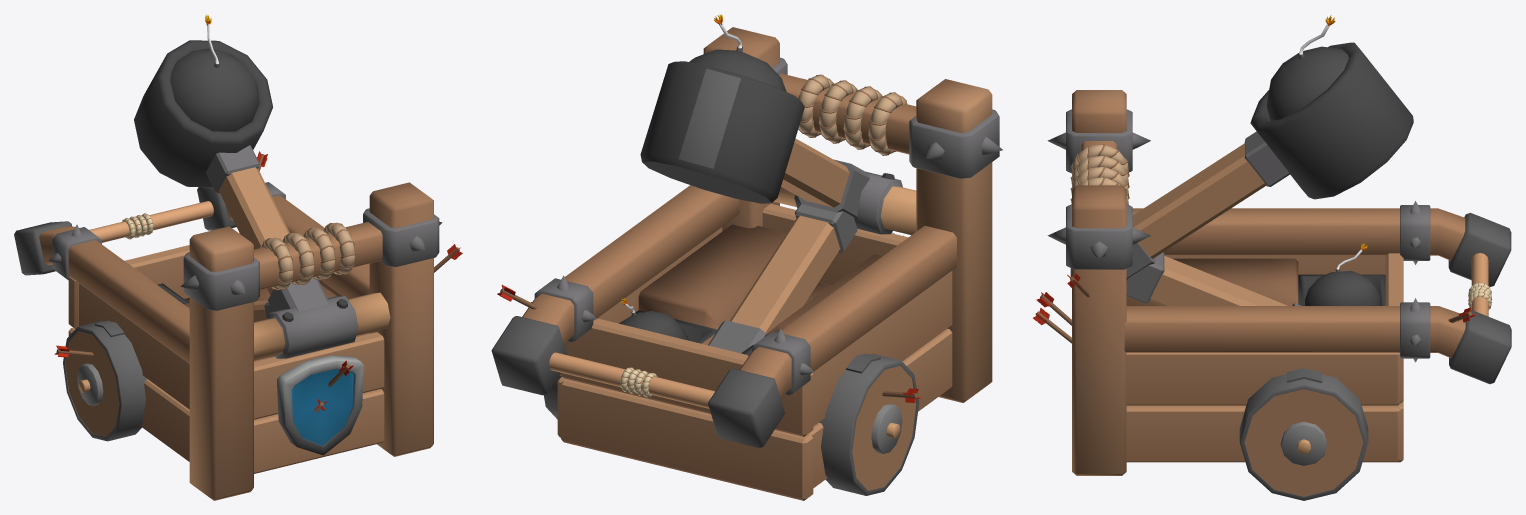
The model's file is Catapult_5.fbx.
3 renders of one model, left to right at view 1: azimuth 30°, elevation 25°; view 2: azimuth 150°, elevation 25°; view 3: azimuth 270°, elevation 25°, orthographic. The views are drawn at different scales.
Parts seen in each view (by area): view 1: Catapult_5, CatapultThrougher_2, CatapultWheel_3, Bomb.003; view 2: Catapult_5, CatapultThrougher_2, CatapultWheel_3, Bomb.003, Bomb.005; view 3: Catapult_5, CatapultThrougher_2, CatapultWheel_2, Bomb.003, Bomb.004.
Boxes of the visible parts, bbox=[...] form: Catapult_5: bbox=[14, 151, 462, 500]; CatapultThrougher_2: bbox=[134, 40, 328, 311]; CatapultWheel_3: bbox=[63, 320, 147, 441]; Bomb.003: bbox=[170, 14, 259, 131]; Catapult_5: bbox=[491, 27, 1002, 500]; CatapultThrougher_2: bbox=[640, 61, 869, 222]; CatapultWheel_3: bbox=[819, 353, 919, 495]; Bomb.003: bbox=[689, 14, 786, 91]; Bomb.005: bbox=[619, 298, 688, 340]; Catapult_5: bbox=[1033, 90, 1511, 475]; CatapultThrougher_2: bbox=[1126, 42, 1413, 279]; CatapultWheel_2: bbox=[1239, 368, 1368, 500]; Bomb.003: bbox=[1266, 15, 1348, 120]; Bomb.004: bbox=[1305, 243, 1379, 305].
Bounding box in the file's own units: 204 × 245 × 256.
